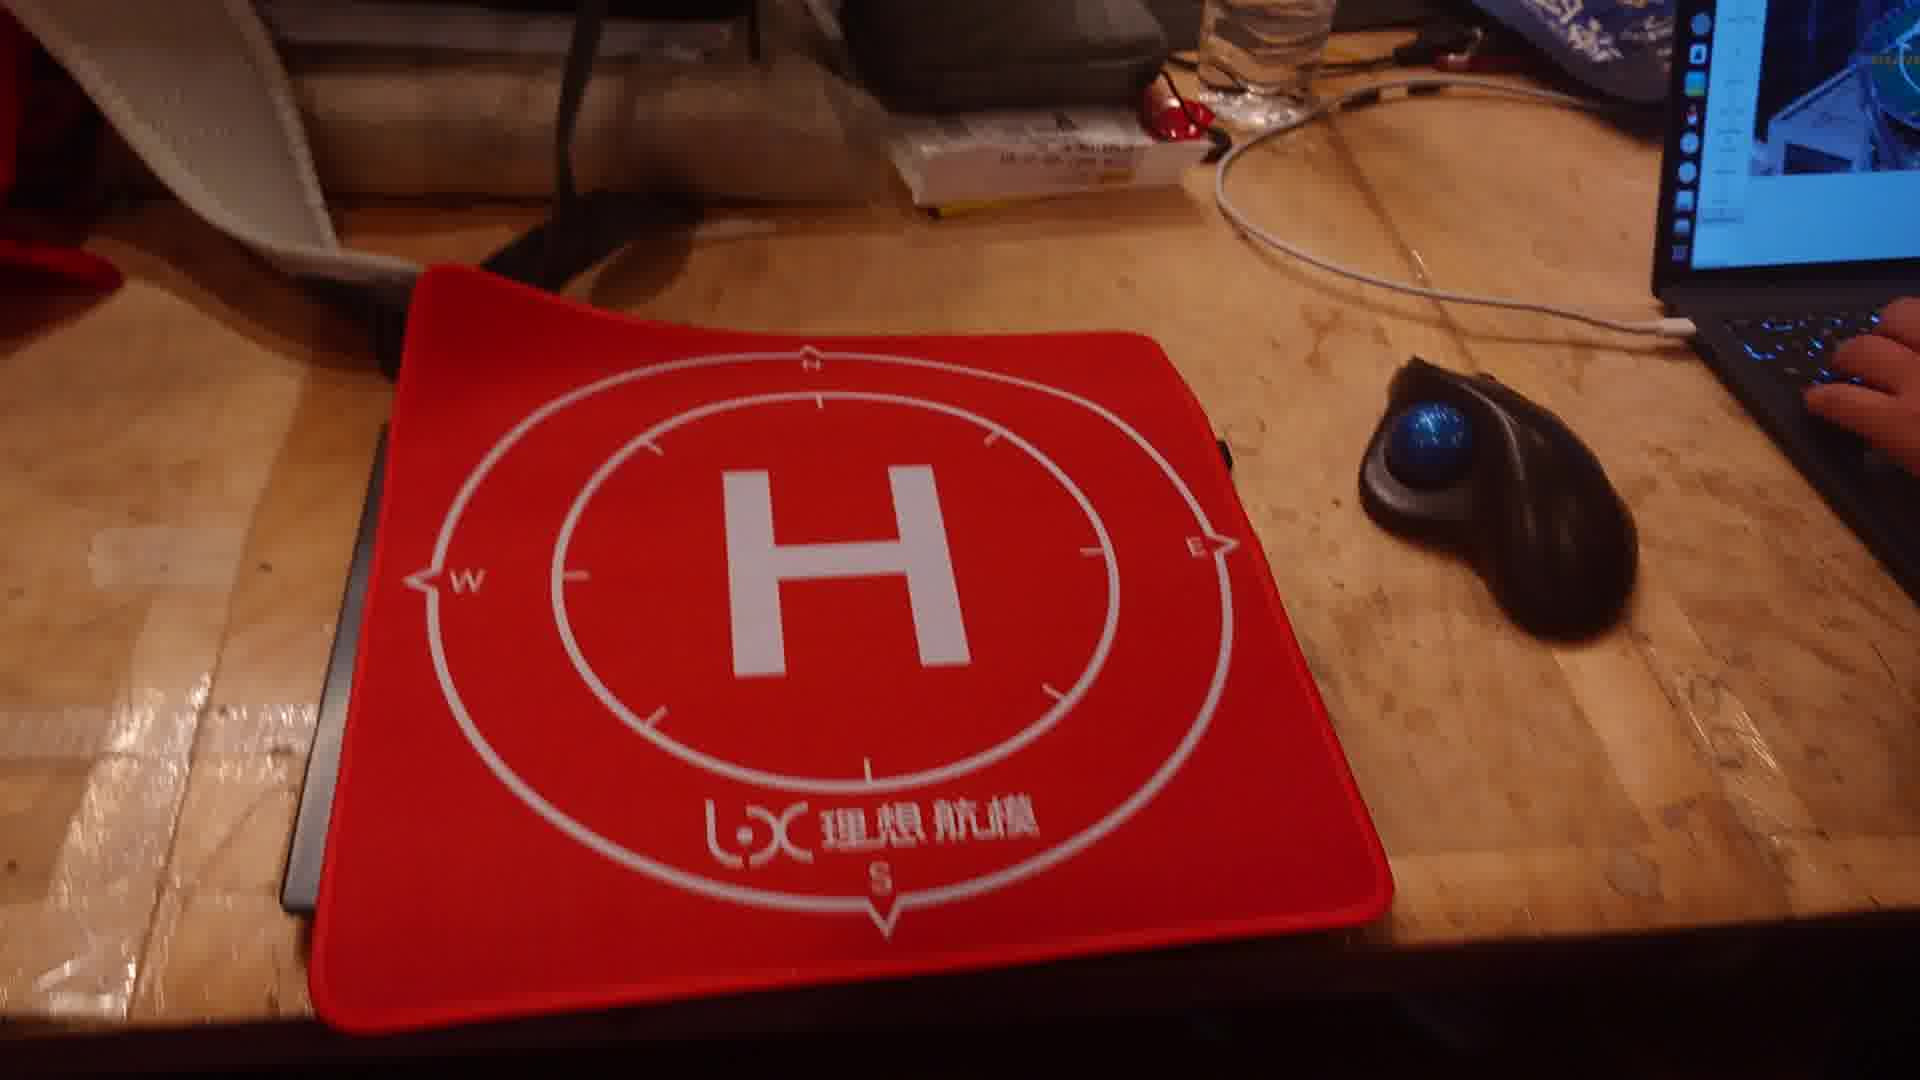H: (723, 465, 971, 679)
